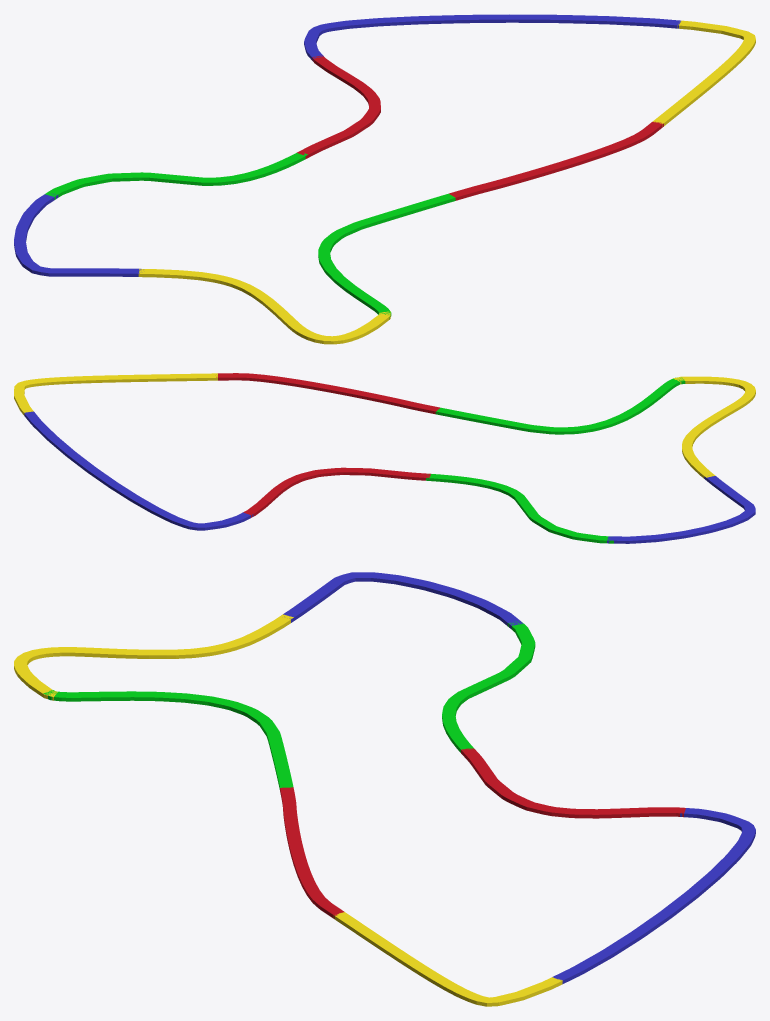
File: Szines_szele_nelkul_003.dae
3 views of the same model, one above another, from view 1: azimuth 30°, elevation 25°; view 2: azimuth 150°, elevation 25°; view 3: azimuth 270°, elevation 25° (orthographic). The views are drawn at different scales.
Visible parts, largest first — view 1: Cube.003, Cube.007, Cube, Cube.005, Cube.001, Cube.002, Cube.006, Cube.004; view 2: Cube.003, Cube, Cube.007, Cube.002, Cube.001, Cube.006, Cube.005, Cube.004; view 3: Cube.003, Cube.007, Cube, Cube.002, Cube.006, Cube.004, Cube.005, Cube.001.
Boxes of the visible parts, x1,y1,x2,y2 form: Cube.003: (304,14,680,61); Cube.007: (138,268,390,344); Cube: (318,193,455,319); Cube.005: (45,153,307,199); Cube.001: (449,121,663,200); Cube.002: (653,20,755,126); Cube.006: (14,193,143,276); Cube.004: (297,55,380,158); Cube.003: (24,411,253,530); Cube: (435,377,685,434); Cube.007: (673,376,755,478); Cube.002: (14,373,217,415); Cube.001: (216,373,439,414); Cube.006: (607,476,755,543); Cube.005: (426,474,613,543); Cube.004: (243,467,430,517); Cube.003: (552,808,755,984); Cube.007: (14,614,293,700); Cube: (43,690,293,789); Cube.002: (333,912,562,1006); Cube.006: (283,572,523,629); Cube.004: (461,748,685,818); Cube.005: (442,620,535,752); Cube.001: (280,787,344,918).
Size of the model in its own units: 44.93 by 32.69 by 0.1781.
